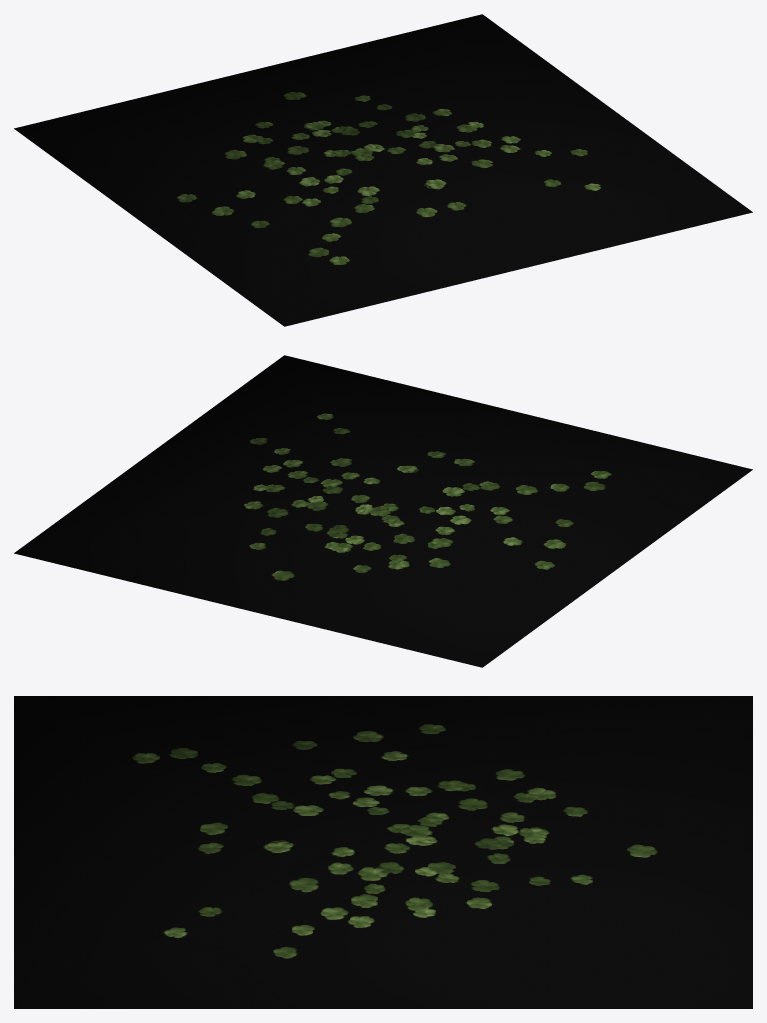
The model's file is lake4.fbx.
The picture shows the model from 3 angles, top to bottom: view 1: azimuth 30°, elevation 25°; view 2: azimuth 150°, elevation 25°; view 3: azimuth 270°, elevation 25°; orthographic projection. The views are drawn at different scales.
Parts seen in each view (by area): view 1: Clover-02; view 2: Clover-02; view 3: Clover-02.
Boxes of the visible parts, <box> form: Clover-02: <box>14,14,752,326</box>; Clover-02: <box>14,355,752,667</box>; Clover-02: <box>14,696,752,1008</box>.
Size of the model in its own units: 161 by 4.5 by 161.
